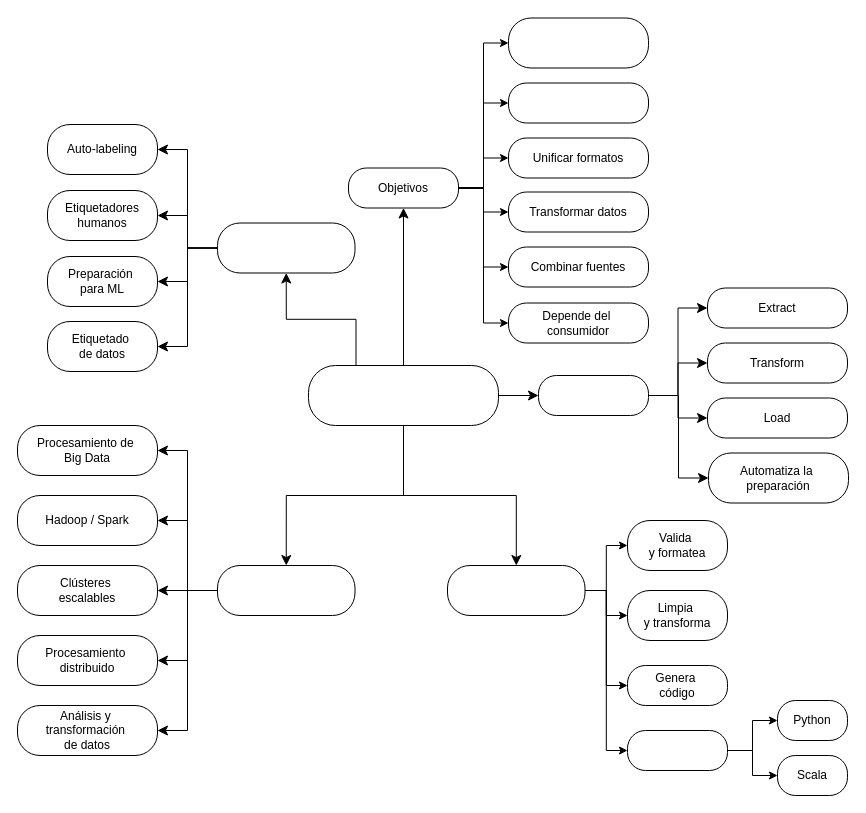
Some shapes in this 866 by 813 pixel diagram are drawn without their labels. Here are the shapes that lost their labels. From the top down, the box of each, then its label:
(508, 17, 648, 68): Preparar datos para análisis
(508, 82, 648, 123): Corregir errores
(216, 222, 355, 273): SageMaker Ground Truth
(308, 364, 498, 426): Limpieza de datos
(538, 374, 648, 416): ETL
(216, 564, 355, 616): Amazon EMR
(446, 564, 585, 616): AWS Glue
(626, 730, 728, 770): Descubre datos
